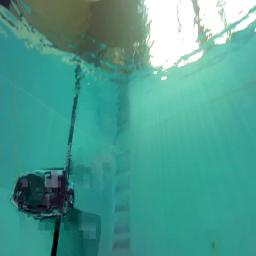Side: (11, 168, 75, 220)
